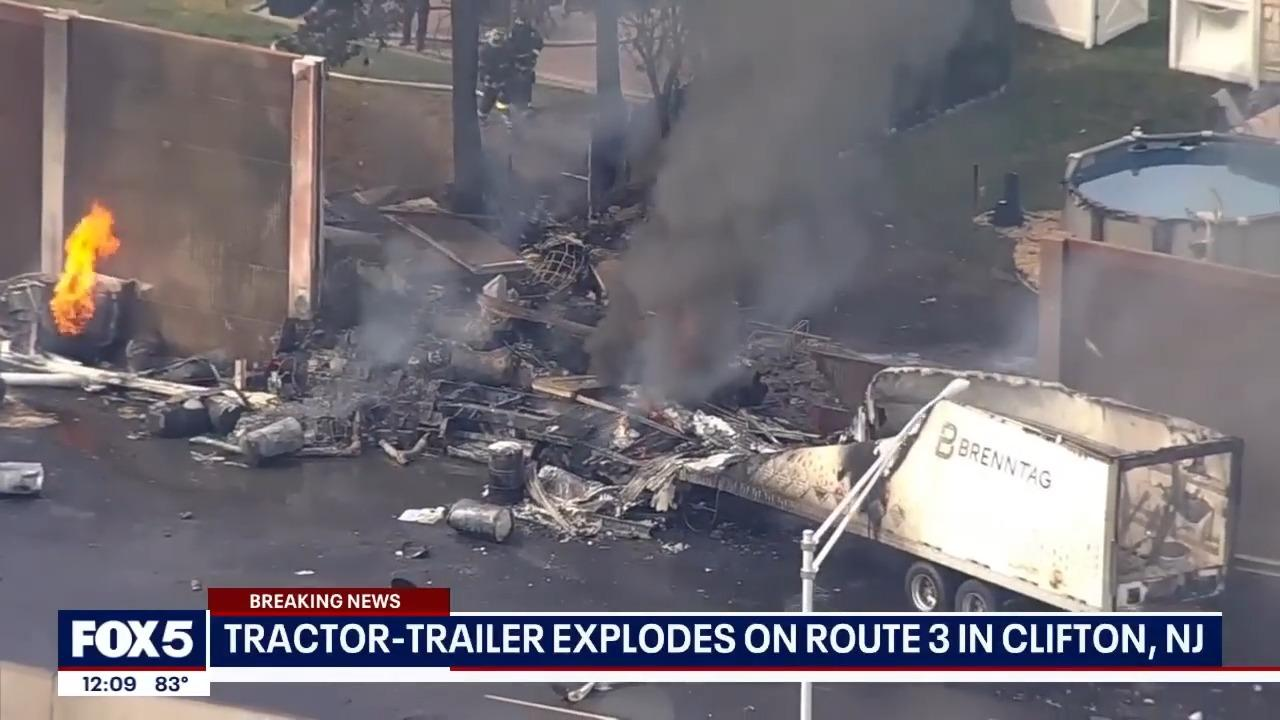fire: (41, 194, 130, 336)
